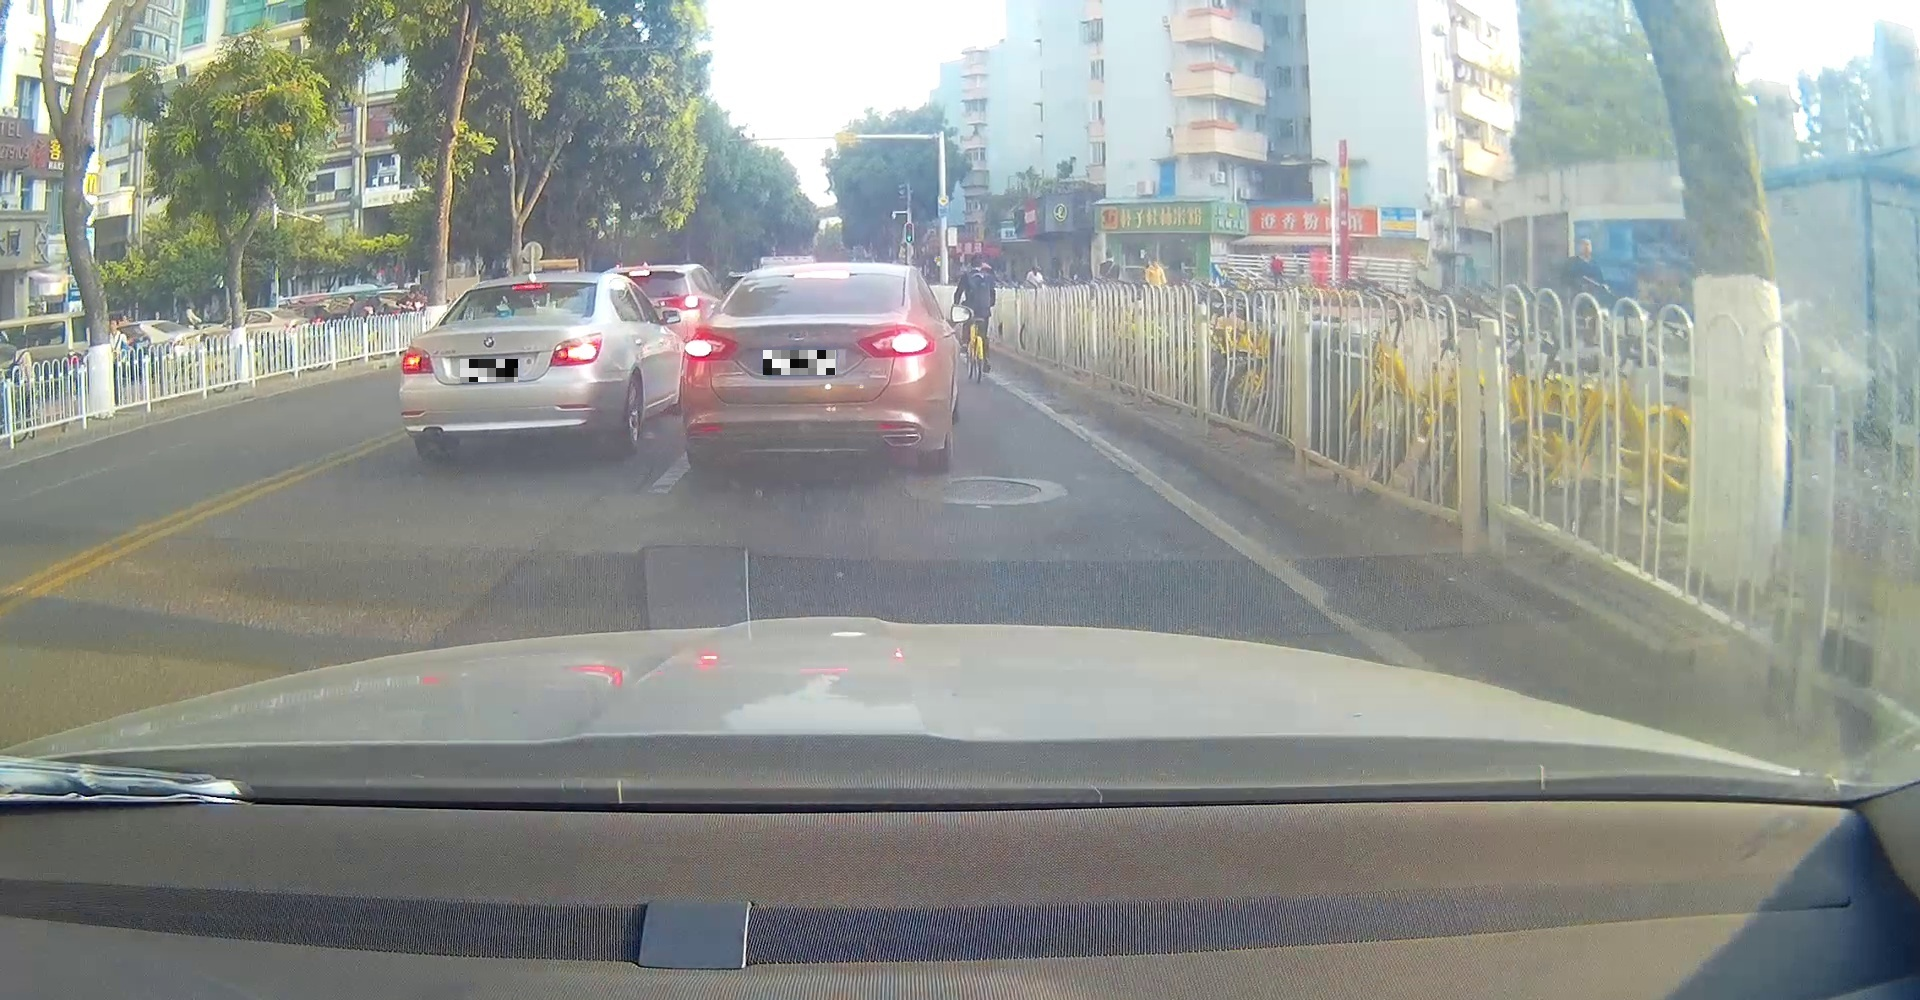L_light: (682, 327, 739, 360), (403, 344, 434, 376)
R_light: (855, 324, 935, 359), (549, 332, 602, 367)
T_light: (791, 269, 851, 280), (509, 280, 545, 291)
day-brake: (681, 261, 938, 473), (399, 273, 606, 461)
plate_1: (460, 359, 518, 382)
plate_2: (763, 350, 836, 376)
